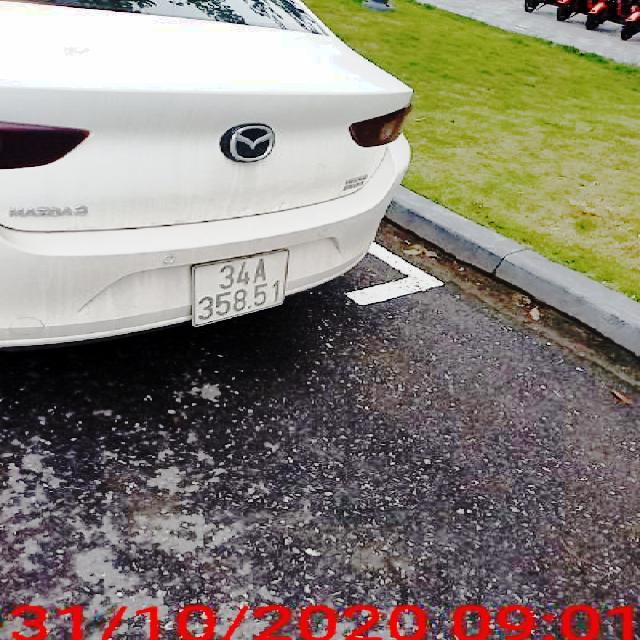license_plate: (195, 250, 288, 327)
